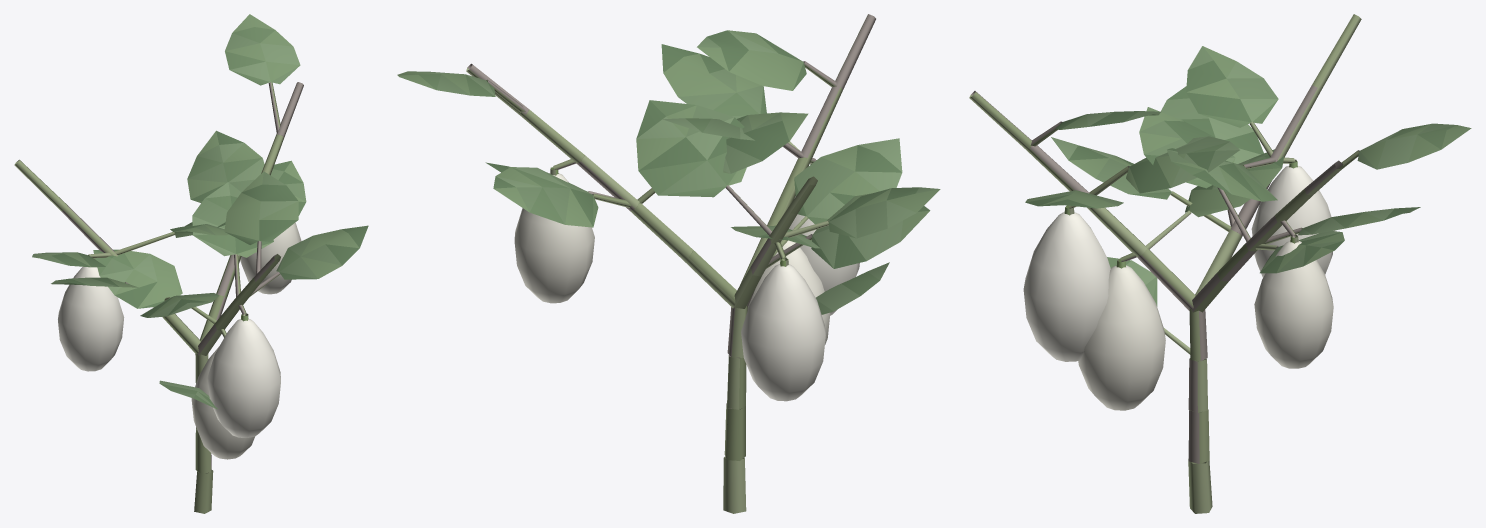
Rendered from aubergine_blanche_fruits.glb.
The picture shows the model from 3 angles, left to right: view 1: azimuth 30°, elevation 25°; view 2: azimuth 150°, elevation 25°; view 3: azimuth 270°, elevation 25°; orthographic projection. The views are drawn at different scales.
Visible parts, largest first — view 1: Aubergine_Feuilles, Aubergine_Fruits, Aubergine_Tiges; view 2: Aubergine_Feuilles, Aubergine_Fruits, Aubergine_Tiges; view 3: Aubergine_Fruits, Aubergine_Feuilles, Aubergine_Tiges.
Boxes of the visible parts, x1,y1,x2,y2 form: Aubergine_Feuilles: (32, 14, 368, 408); Aubergine_Fruits: (58, 222, 301, 459); Aubergine_Tiges: (14, 82, 303, 513); Aubergine_Feuilles: (397, 30, 940, 314); Aubergine_Fruits: (514, 173, 859, 401); Aubergine_Tiges: (466, 14, 875, 513); Aubergine_Fruits: (1023, 166, 1335, 410); Aubergine_Feuilles: (1025, 46, 1471, 306); Aubergine_Tiges: (969, 14, 1361, 513).
Bounding box in the file's own units: 0.5688 × 0.6159 × 0.5885.
